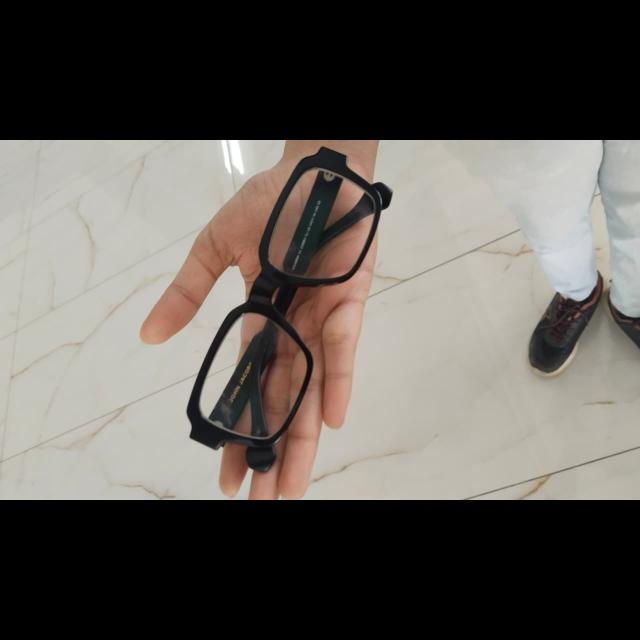glasses: (188, 148, 388, 472)
